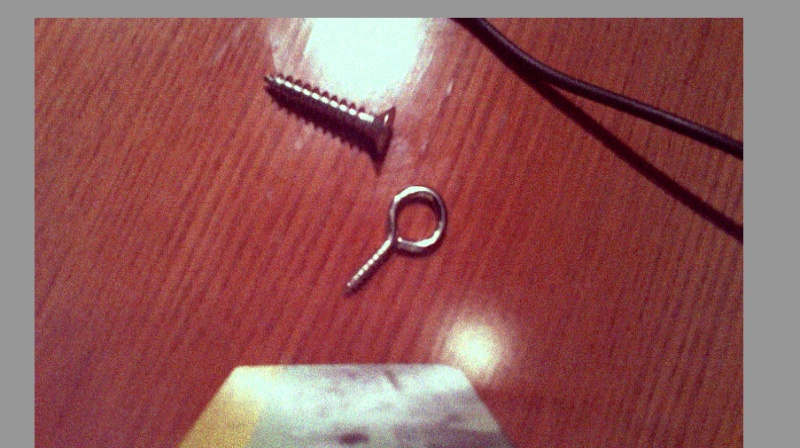O001: (336, 183, 449, 298)
S001: (262, 71, 398, 158)
